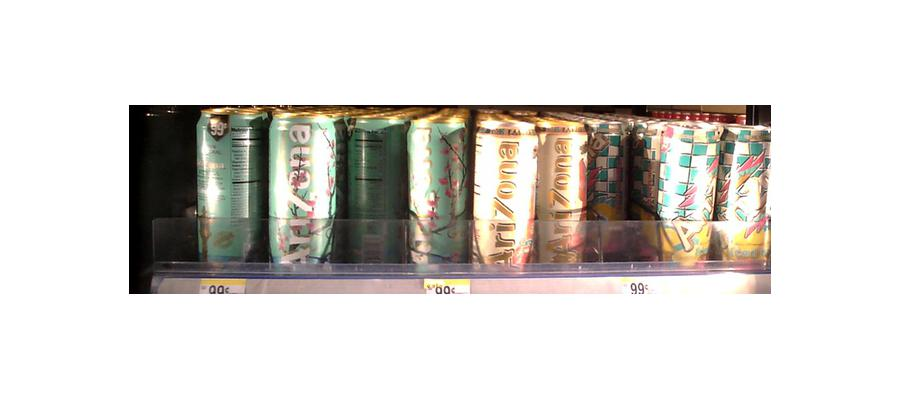bottle: (194, 108, 264, 267), (267, 113, 337, 268), (474, 119, 538, 272), (653, 122, 718, 267), (408, 120, 468, 269), (344, 116, 402, 261), (724, 120, 773, 268), (539, 122, 586, 262), (587, 115, 631, 261)
